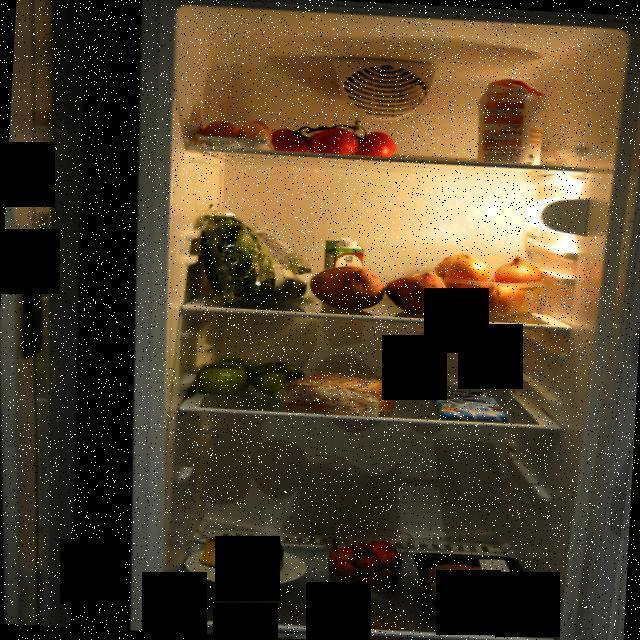apple: (193, 351, 312, 402)
bread: (280, 368, 400, 419)
cheese: (198, 534, 288, 576)
chicken_breast: (408, 551, 546, 625)
chocolate: (428, 387, 511, 423)
egg: (200, 117, 274, 150)
heavy_cream: (322, 237, 366, 304)
onion: (428, 248, 548, 320)
spinach: (190, 211, 316, 311)
strawberries: (325, 535, 405, 590)
sugar: (472, 76, 550, 168)
sweet_potato: (308, 262, 452, 316)
tomato: (262, 112, 401, 160)
